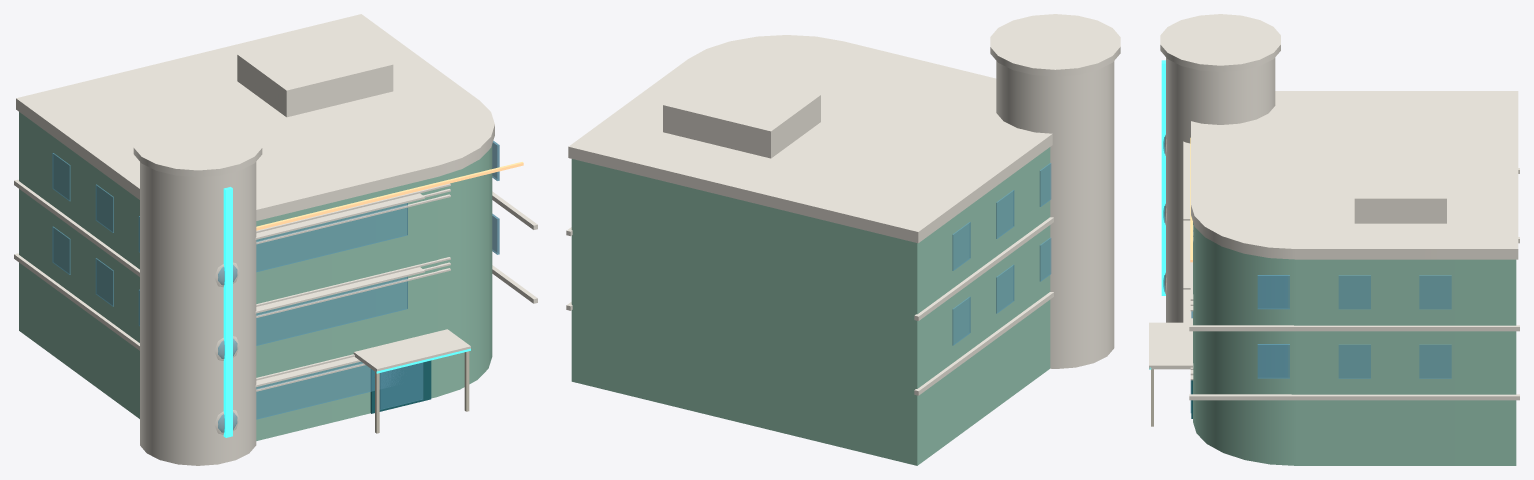
The model's file is deco_hotel_b.glb.
The picture shows the model from 3 angles, left to right: view 1: azimuth 30°, elevation 25°; view 2: azimuth 150°, elevation 25°; view 3: azimuth 270°, elevation 25°; orthographic projection. The views are drawn at different scales.
Parts seen in each view (by area): view 1: deco_hotel_b; view 2: deco_hotel_b; view 3: deco_hotel_b.
Part boxes in pixels (x1,y1,x2,y2): deco_hotel_b: [14, 14, 537, 465]; deco_hotel_b: [566, 14, 1120, 465]; deco_hotel_b: [1149, 14, 1519, 465].
Bounding box in the file's own units: 17.8 × 13.35 × 16.05.
